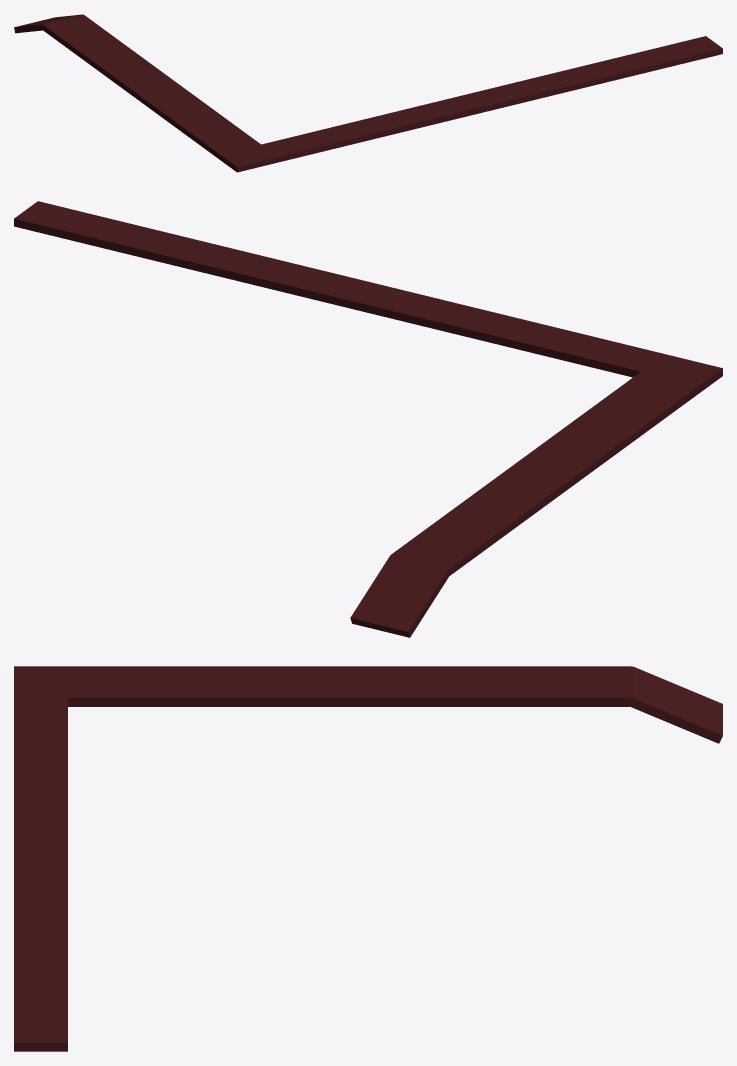
The model's file is Estante5.fbx.
The picture shows the model from 3 angles, top to bottom: view 1: azimuth 30°, elevation 25°; view 2: azimuth 150°, elevation 25°; view 3: azimuth 270°, elevation 25°; orthographic projection. The views are drawn at different scales.
Parts seen in each view (by area): view 1: Cube.016; view 2: Cube.016; view 3: Cube.016.
Boxes of the visible parts, x1,y1,x2,y2 form: Cube.016: [14, 14, 722, 172]; Cube.016: [14, 201, 722, 637]; Cube.016: [14, 666, 722, 1051].
Size of the model in its own units: 7043 by 399 by 5605.
